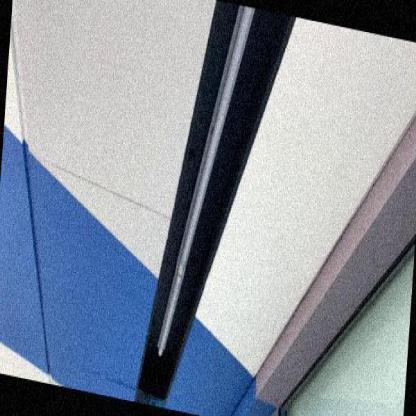light_off: (144, 0, 260, 378)
